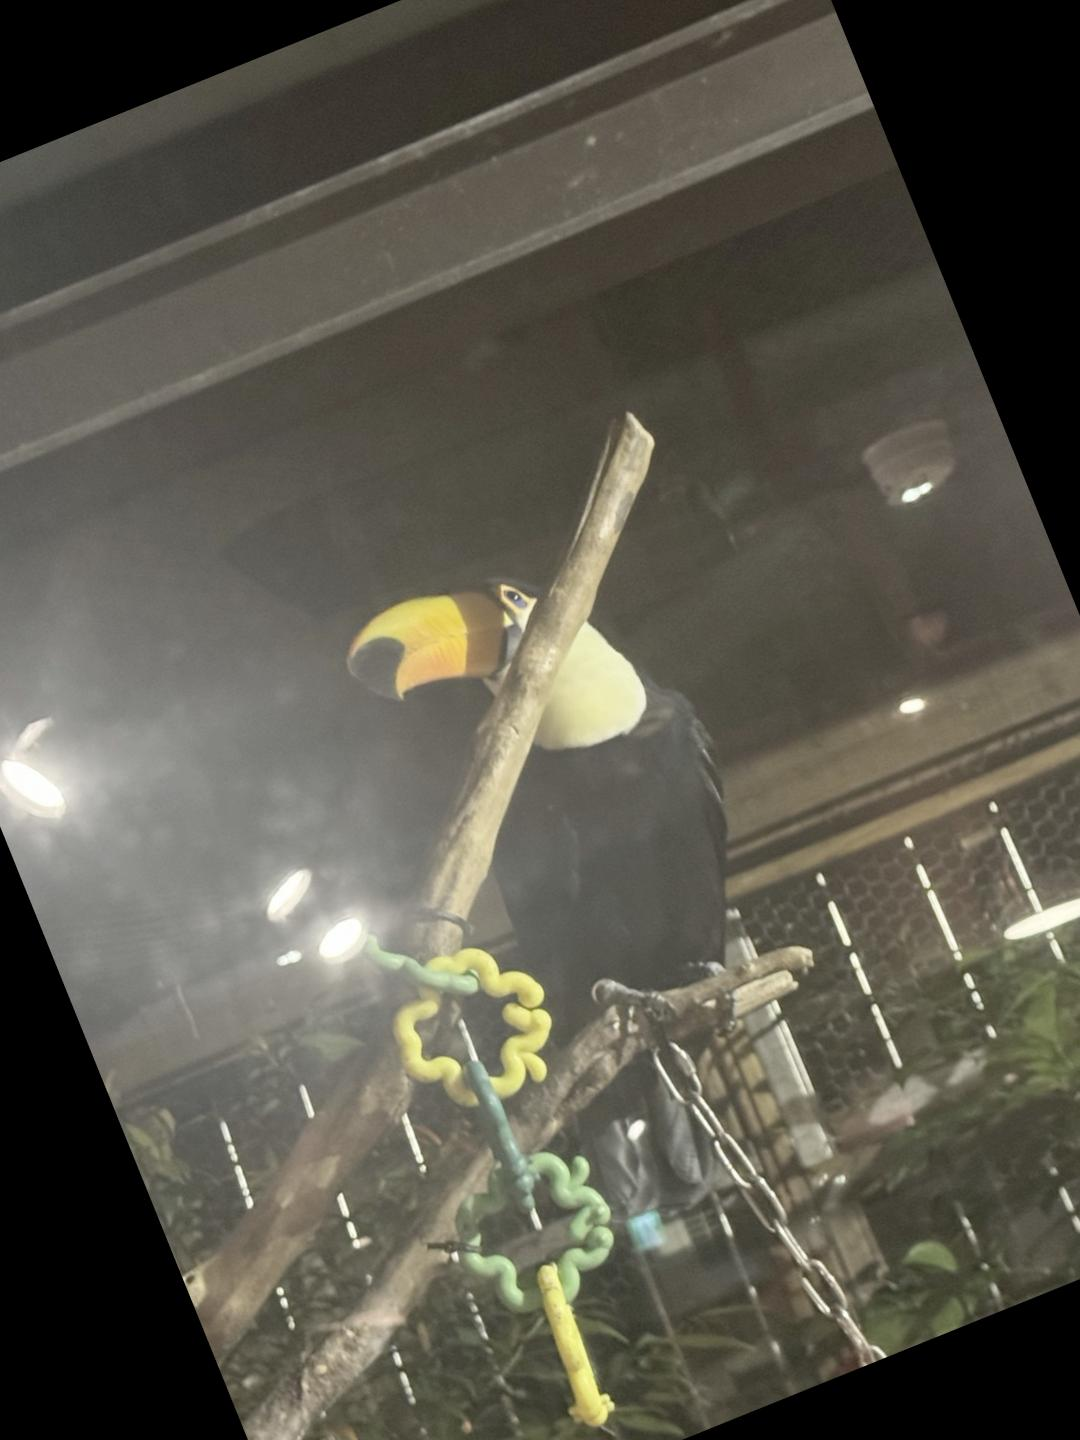bird: (324, 503, 876, 1247)
